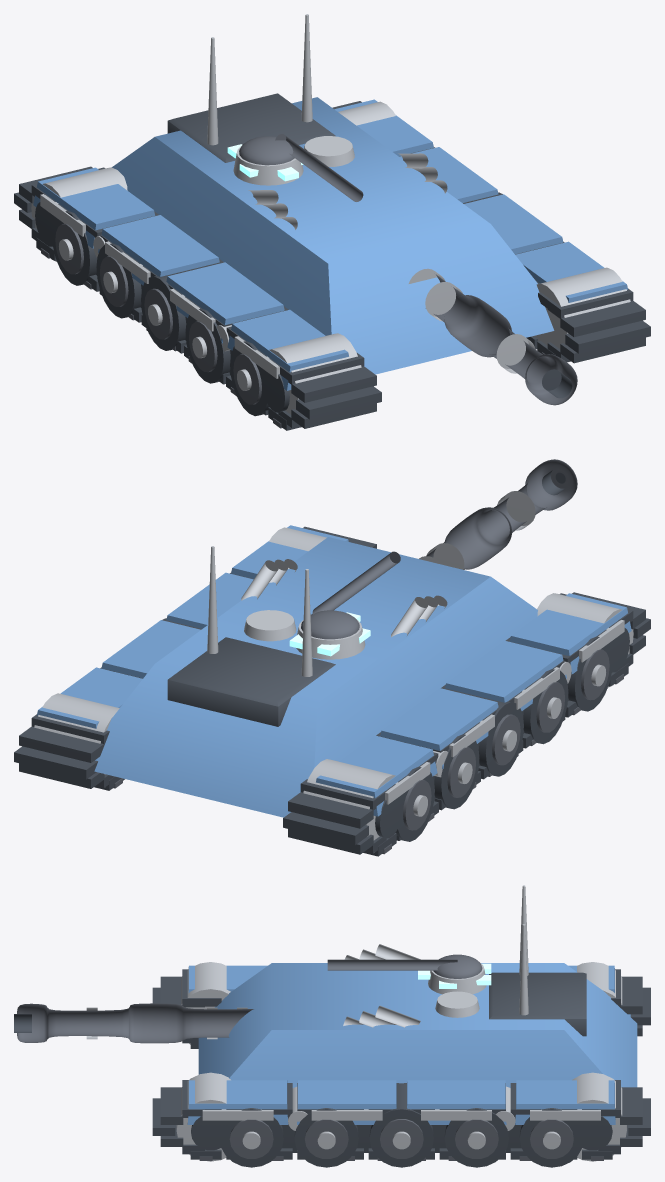
File: tnkd.glb
3 views of the same model, one above another, from view 1: azimuth 30°, elevation 25°; view 2: azimuth 150°, elevation 25°; view 3: azimuth 270°, elevation 25° (orthographic). The views are drawn at different scales.
Visible parts, largest first — view 1: Hull; view 2: Hull; view 3: Hull.
Boxes of the visible parts, x1,y1,x2,y2 form: Hull: [14, 14, 650, 430]; Hull: [14, 459, 650, 856]; Hull: [14, 885, 650, 1167].
Size of the model in its own units: 2.06 by 1.25 by 3.76.
